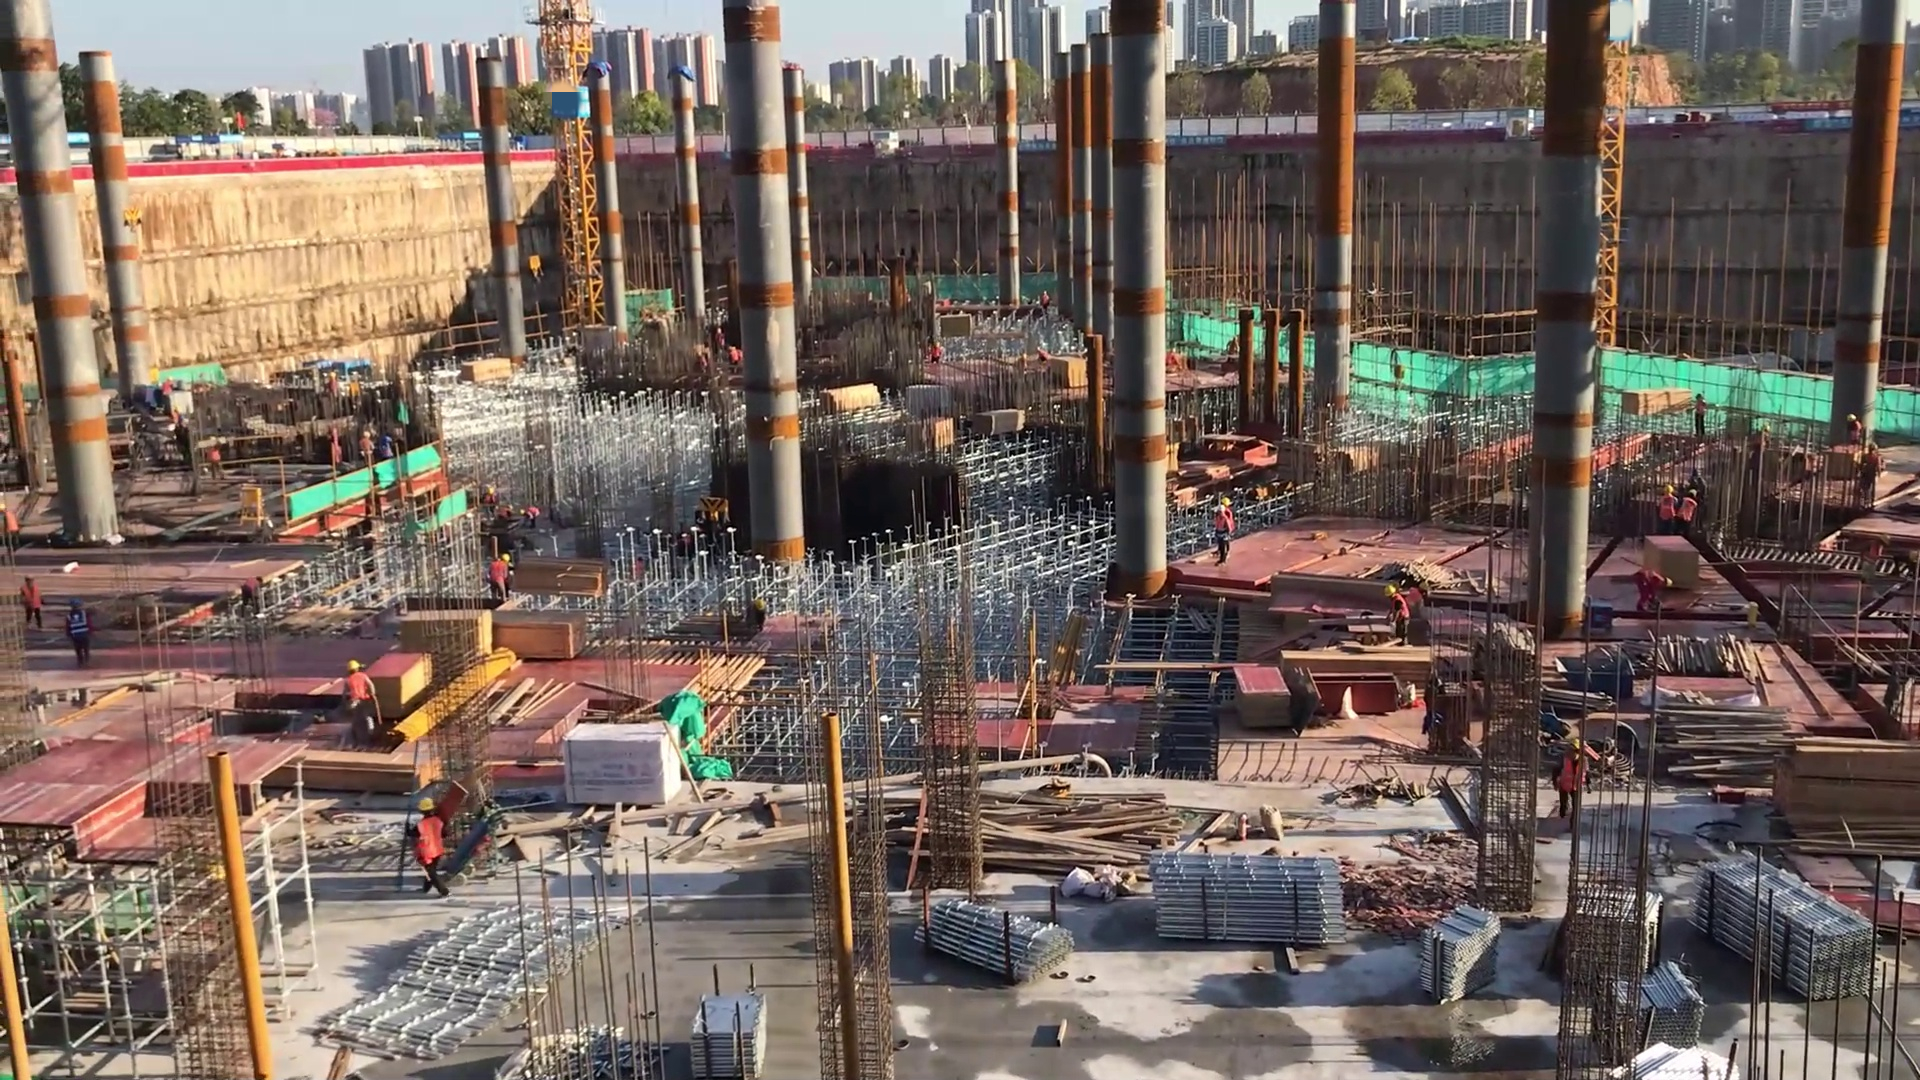board: (397, 607, 492, 670), (361, 647, 433, 722), (1228, 660, 1295, 735), (1828, 895, 1920, 947), (1049, 356, 1087, 392)
ebox: (234, 477, 272, 542)
helmet: (417, 793, 438, 816), (1564, 739, 1583, 756), (345, 658, 362, 675), (1383, 584, 1397, 600), (1685, 488, 1700, 501), (1665, 571, 1675, 591), (1663, 482, 1675, 497), (1219, 495, 1232, 506), (1418, 579, 1429, 591), (25, 569, 36, 582), (1215, 506, 1226, 517), (1848, 413, 1858, 425), (500, 551, 512, 561), (519, 506, 527, 517), (362, 431, 371, 441), (486, 486, 495, 496)
hook: (1555, 652, 1644, 707), (116, 206, 150, 242), (522, 251, 551, 285)
person: (395, 790, 460, 905), (336, 652, 388, 753), (474, 535, 522, 622), (59, 593, 99, 672), (1553, 739, 1589, 818), (12, 567, 48, 638), (1631, 564, 1677, 615), (1384, 585, 1411, 656), (1211, 506, 1236, 572), (1860, 443, 1883, 502), (1402, 578, 1433, 618), (240, 571, 267, 620), (1690, 385, 1711, 440), (1678, 488, 1701, 536), (1657, 481, 1677, 530), (1221, 494, 1238, 550), (1846, 413, 1866, 455), (931, 340, 953, 373), (355, 431, 375, 465), (521, 504, 542, 530), (482, 485, 496, 520), (498, 499, 514, 526), (728, 342, 740, 370), (715, 326, 727, 354), (1039, 287, 1051, 315), (1036, 344, 1052, 364)
scaffold: (1694, 847, 1876, 1012), (1151, 849, 1361, 962), (909, 888, 1080, 992), (1420, 899, 1522, 1019), (1600, 969, 1711, 1055)
slogan: (1805, 112, 1865, 137), (1162, 133, 1230, 149), (1018, 138, 1056, 151)
vest: (408, 810, 446, 877), (342, 672, 380, 711), (1557, 754, 1591, 797), (63, 607, 93, 647), (21, 580, 43, 615), (1679, 497, 1700, 525), (1658, 494, 1677, 524), (1392, 595, 1410, 628), (1403, 588, 1424, 614), (488, 562, 506, 591), (1643, 568, 1663, 591)
wood: (1769, 730, 1920, 850), (981, 787, 1176, 873), (1658, 704, 1795, 780), (1279, 649, 1450, 689), (294, 749, 429, 797), (490, 608, 597, 660), (509, 552, 609, 601), (462, 351, 523, 399), (1621, 387, 1693, 419), (825, 382, 887, 418), (972, 407, 1031, 441)
